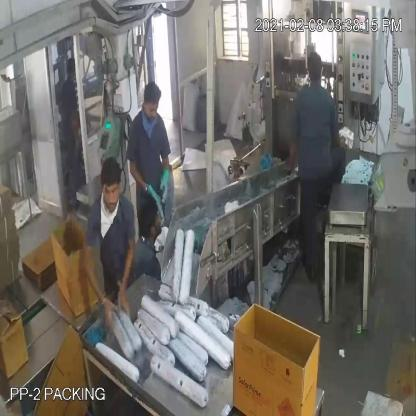glove: (160, 158, 175, 204)
no_glove: (80, 247, 120, 330), (115, 221, 139, 317)
